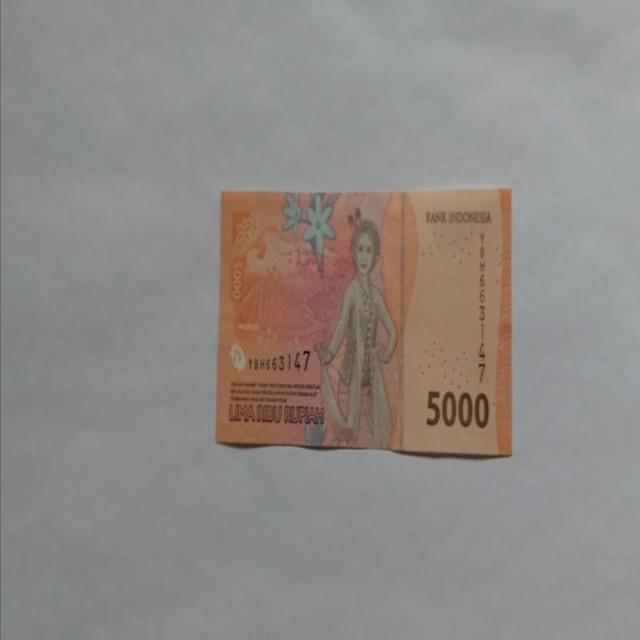lima ribu rupiah: (215, 186, 513, 456), (312, 218, 398, 449)
